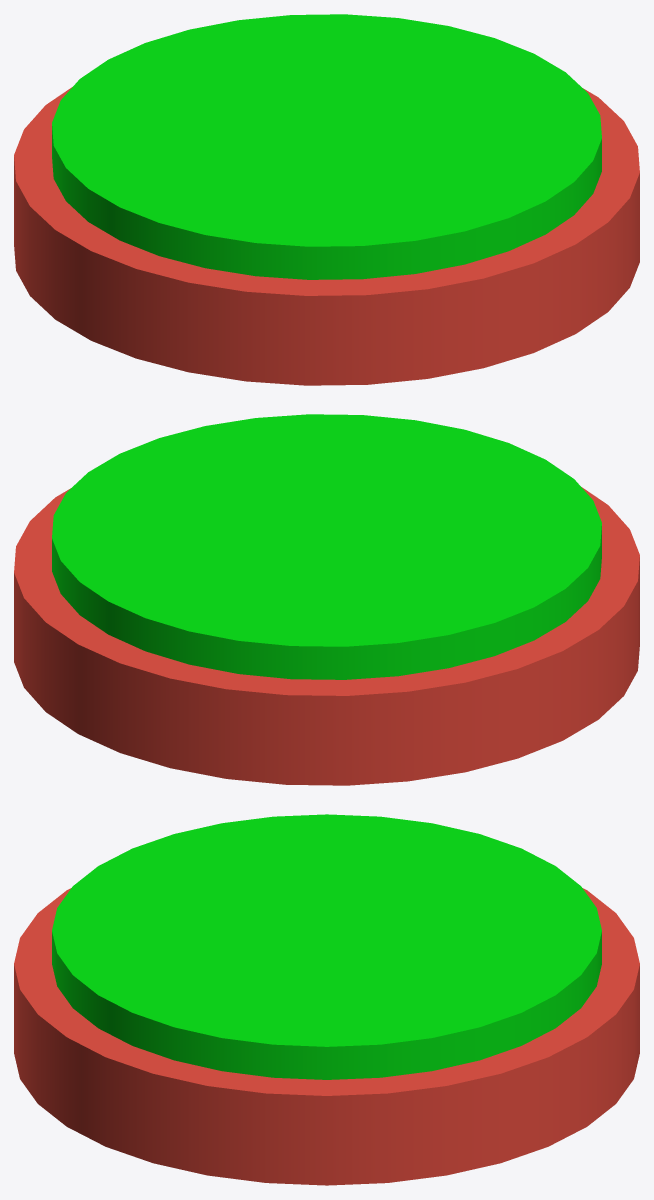
Rendered from Barrier_Button.glb.
3 views of the same model, one above another, from view 1: azimuth 30°, elevation 25°; view 2: azimuth 150°, elevation 25°; view 3: azimuth 270°, elevation 25° (orthographic).
Visible parts, largest first — view 1: Cylinder; view 2: Cylinder; view 3: Cylinder.
Part boxes in pixels (left/top/right/bottom): Cylinder: left=14, top=14, right=639, bottom=385; Cylinder: left=14, top=414, right=639, bottom=785; Cylinder: left=14, top=814, right=639, bottom=1185.
Size of the model in its own units: 0.061 by 0.0132 by 0.061.
